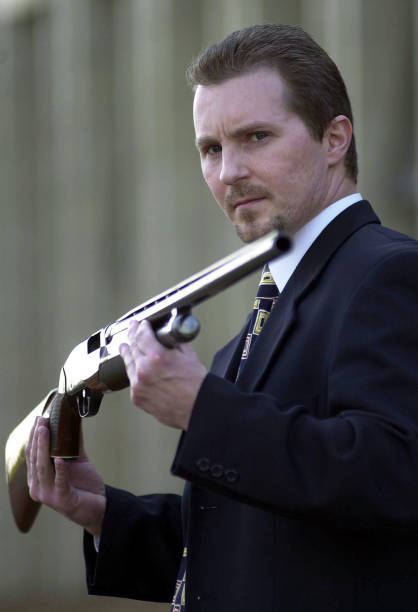shotgun: (1, 231, 289, 532)
